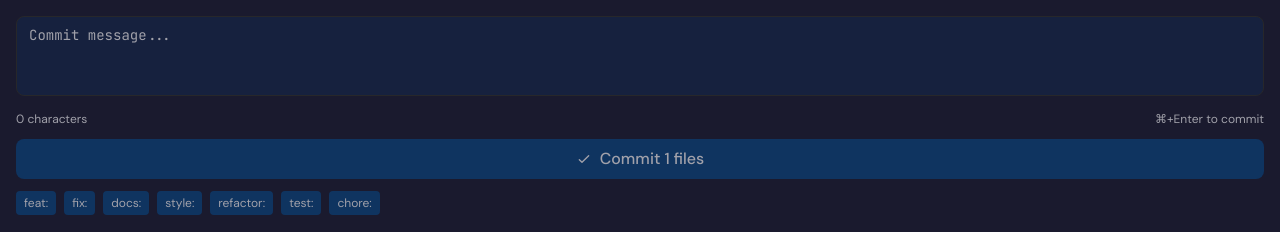
Test: CommitForm › should show character count
The image size is (1280, 232).
Type "Test message" into the text box with placeholder "Commit message...".
click(640, 56); type("Test message")  # box top-left (16, 16), bottom-right (1264, 96)
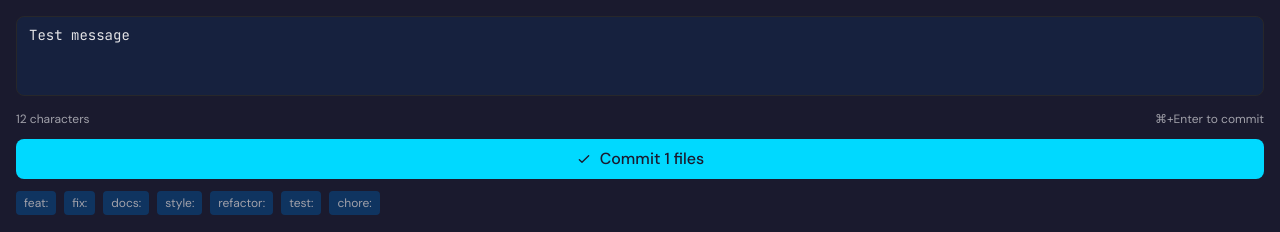
Expected: the text "12 characters" is shown, top-left (16, 111), bottom-right (90, 127)
